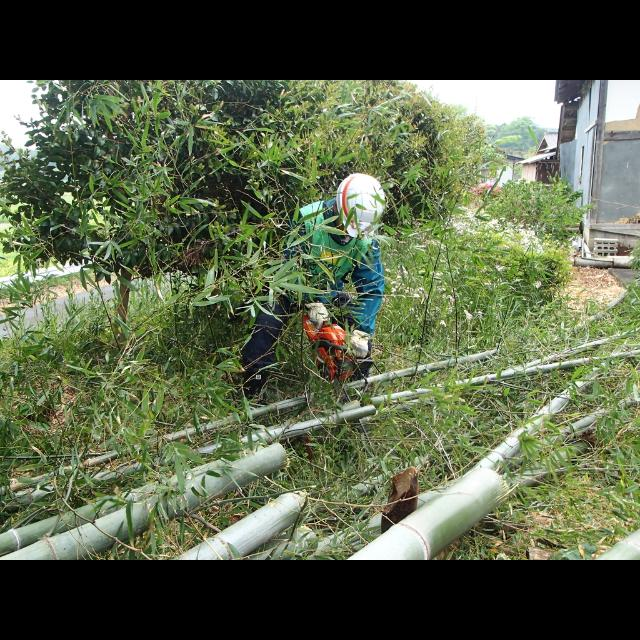Flower: (447, 200, 549, 260)
